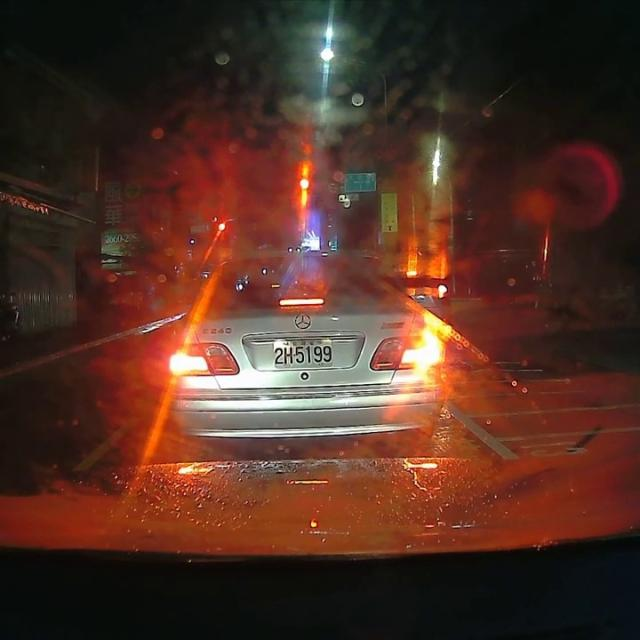Car: (161, 245, 444, 436), (387, 268, 449, 320)
